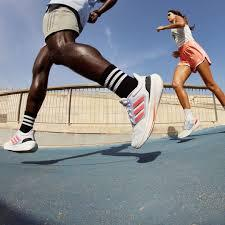adidas logo: (129, 89, 152, 129)
sock logo: (99, 62, 136, 99), (19, 108, 36, 132)
